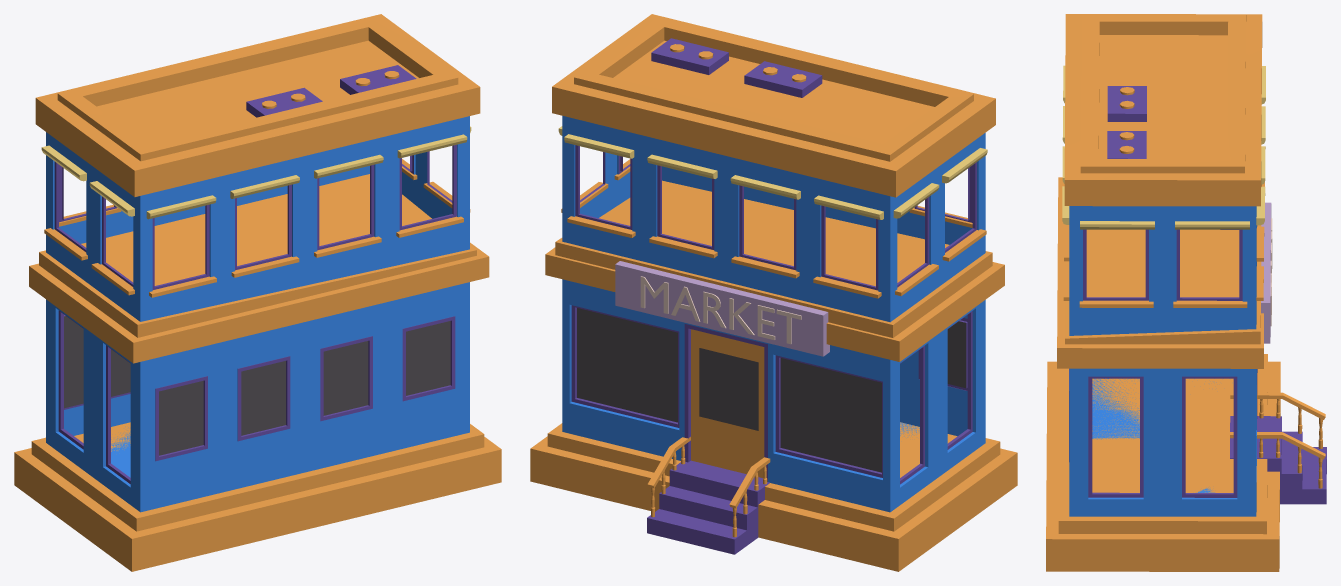
Rendered from Market Building.fbx.
3 renders of one model, left to right at view 1: azimuth 30°, elevation 25°; view 2: azimuth 150°, elevation 25°; view 3: azimuth 270°, elevation 25°, orthographic.
Visible parts, largest first — view 1: Market Building; view 2: Market Building; view 3: Market Building.
Boxes of the visible parts, <box> form: Market Building: <box>14,14,501,571</box>; Market Building: <box>530,14,1017,571</box>; Market Building: <box>1046,14,1326,571</box>.
Size of the model in its own units: 1015 by 1044 by 677.
